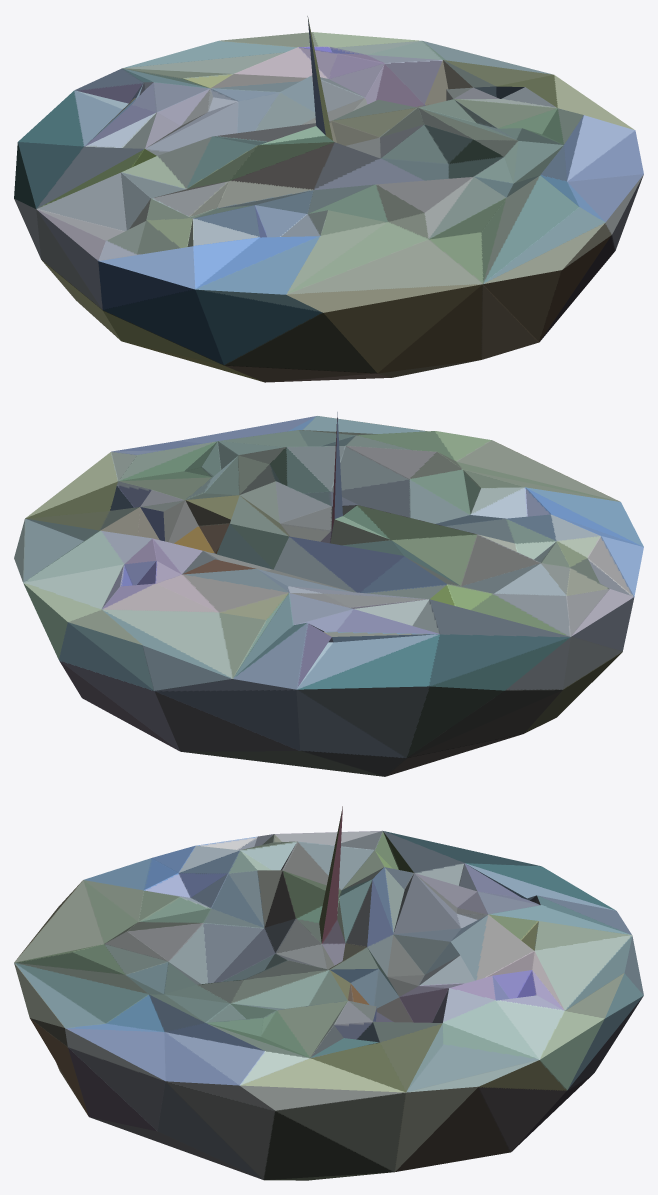
File: incense.fbx
3 views of the same model, one above another, from view 1: azimuth 30°, elevation 25°; view 2: azimuth 150°, elevation 25°; view 3: azimuth 270°, elevation 25° (orthographic).
Visible parts, largest first — view 1: Mesh_0; view 2: Mesh_0; view 3: Mesh_0.
Boxes of the visible parts, left/top/right/bottom form: Mesh_0: left=14, top=16, right=643, bottom=382; Mesh_0: left=14, top=412, right=643, bottom=776; Mesh_0: left=14, top=806, right=643, bottom=1180.
Bounding box in the file's own units: 117 × 63.47 × 120.
Materials: 1 (1 with a texture image).
